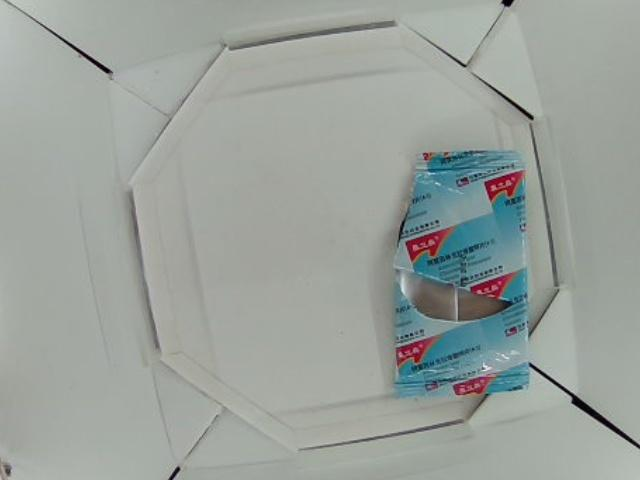Medicine: (394, 150, 527, 401)
